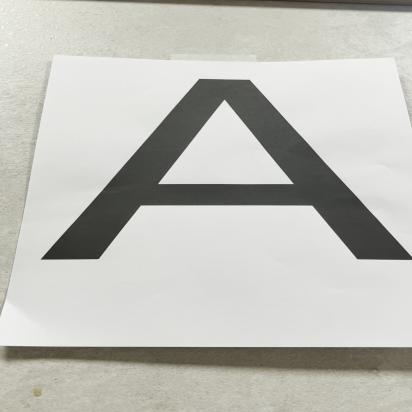seat: (17, 65, 412, 311)
